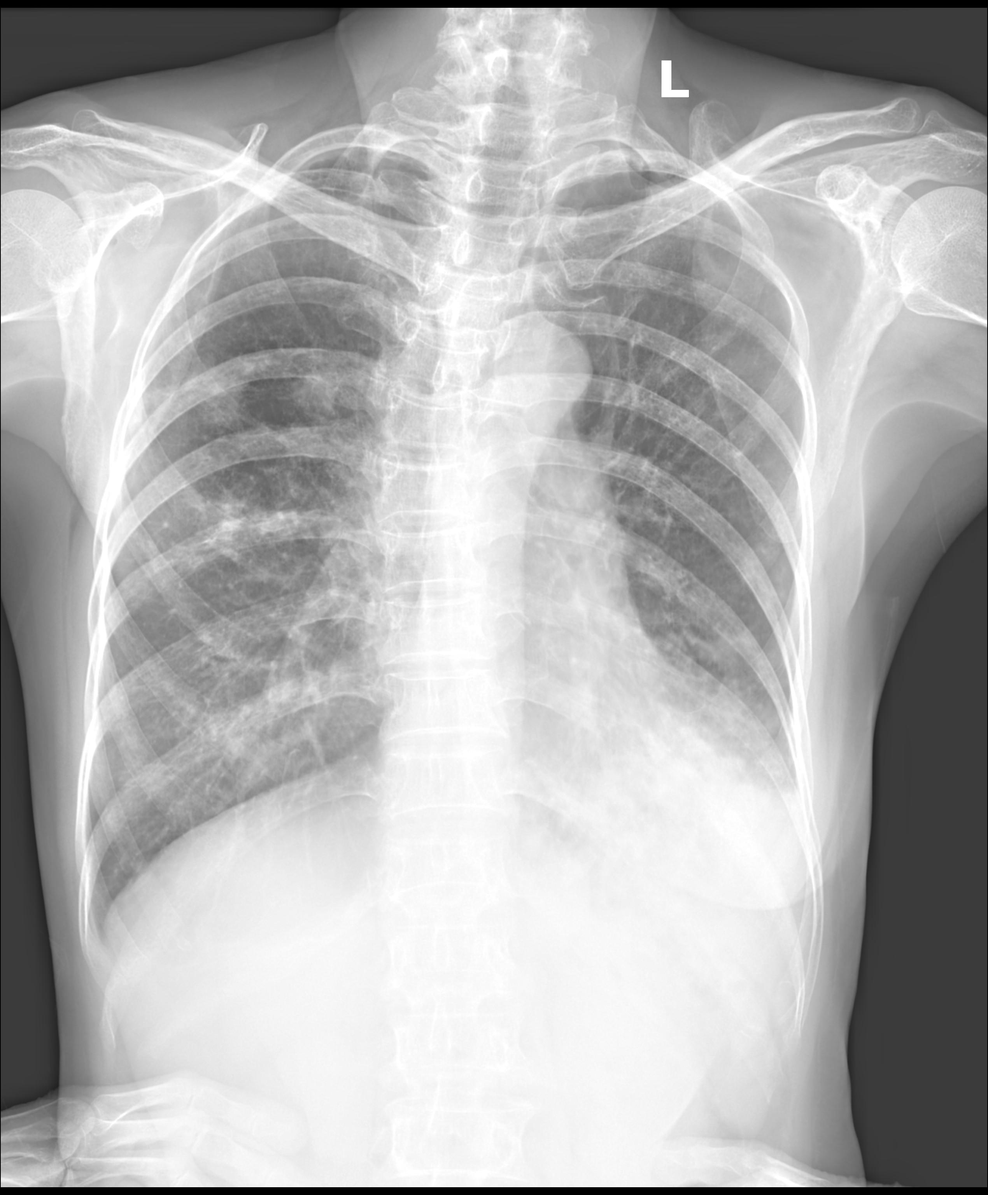Aortic enlargement: (480, 316, 587, 417)
Pulmonary fibrosis: (179, 490, 301, 555)
